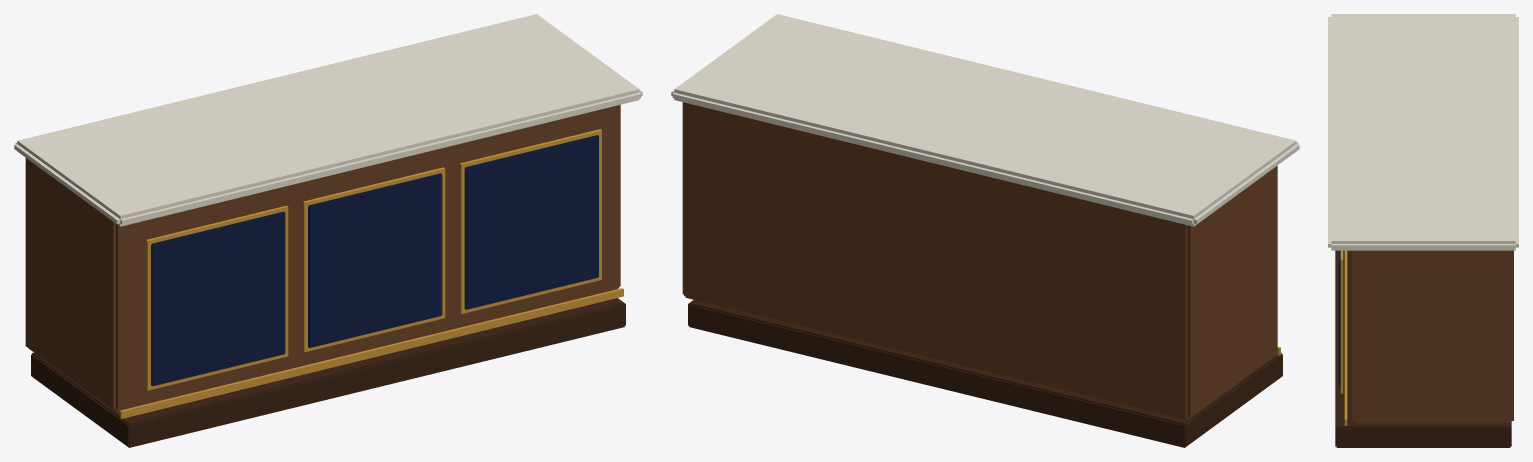
File: digitaldesk.glb
The picture shows the model from 3 angles, left to right: view 1: azimuth 30°, elevation 25°; view 2: azimuth 150°, elevation 25°; view 3: azimuth 270°, elevation 25°; orthographic projection. The views are drawn at different scales.
Parts seen in each view (by area): view 1: digitaldesk_marble, digitaldesk_navy, digitaldesk_wood, digitaldesk_wood_dark, digitaldesk_brass; view 2: digitaldesk_wood, digitaldesk_marble, digitaldesk_wood_dark; view 3: digitaldesk_marble, digitaldesk_wood, digitaldesk_wood_dark, digitaldesk_brass, digitaldesk_navy.
Part boxes in pixels (box(x1,y1,x2,y2)): digitaldesk_marble: box(14, 14, 642, 226); digitaldesk_navy: box(151, 135, 598, 386); digitaldesk_wood: box(25, 104, 620, 412); digitaldesk_wood_dark: box(31, 298, 625, 447); digitaldesk_brass: box(119, 129, 623, 418); digitaldesk_wood: box(682, 102, 1277, 419); digitaldesk_marble: box(671, 14, 1299, 226); digitaldesk_wood_dark: box(688, 300, 1282, 447); digitaldesk_marble: box(1328, 14, 1518, 250); digitaldesk_wood: box(1352, 250, 1513, 423); digitaldesk_wood_dark: box(1335, 250, 1511, 447); digitaldesk_brass: box(1340, 250, 1347, 425); digitaldesk_navy: box(1338, 250, 1340, 388).
Bounding box in the file's own units: 2.28 × 0.9825 × 0.8.
